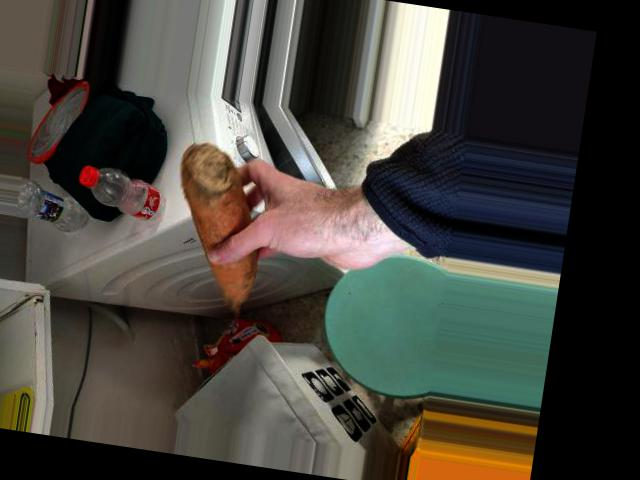sweet_potato: (156, 149, 285, 304)
